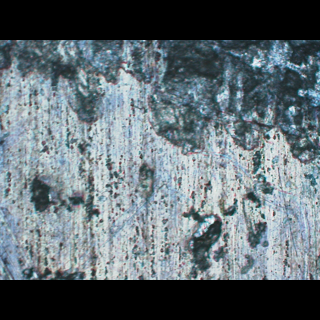d: (0, 40, 319, 177), (179, 197, 267, 274)
